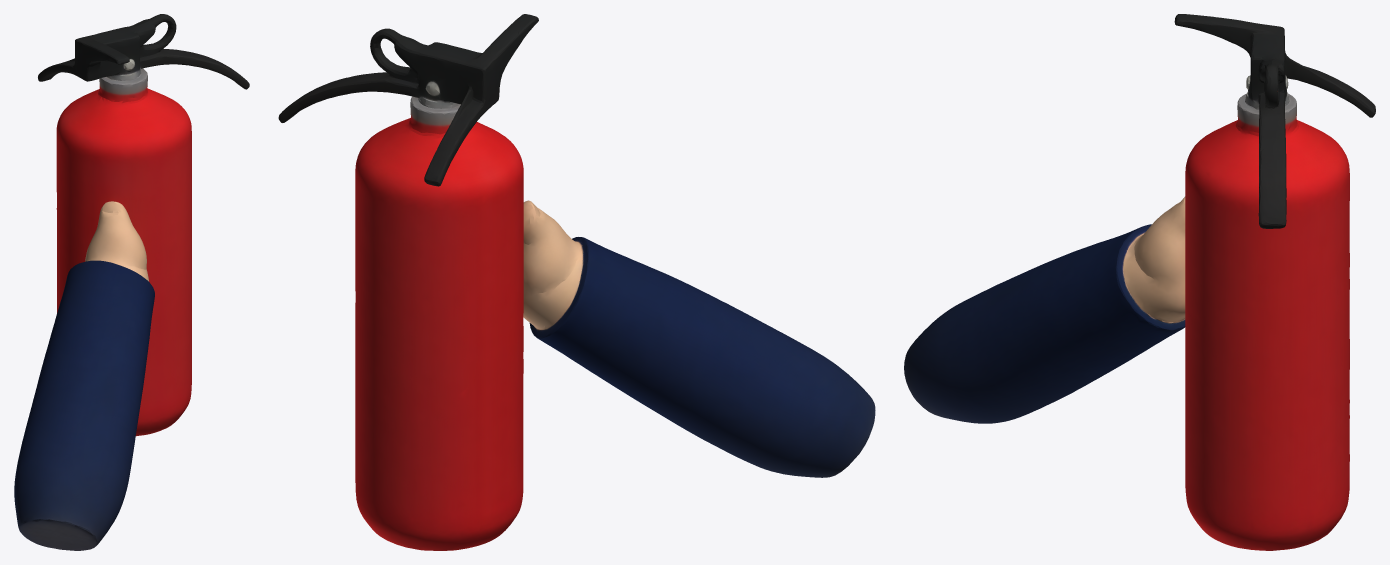
Rendered from FP_Arms_Extinguisher.fbx.
3 views of the same model, side by side, from view 1: azimuth 30°, elevation 25°; view 2: azimuth 150°, elevation 25°; view 3: azimuth 270°, elevation 25° (orthographic). The views are drawn at different scales.
Visible parts, largest first — view 1: model; view 2: model; view 3: model.
Part boxes in pixels (x1,y1,x2,y2): model: [14, 14, 249, 550]; model: [278, 14, 875, 550]; model: [904, 14, 1375, 550].
Size of the model in its own units: 175 by 189 by 167.
1 material, 1 textured.
